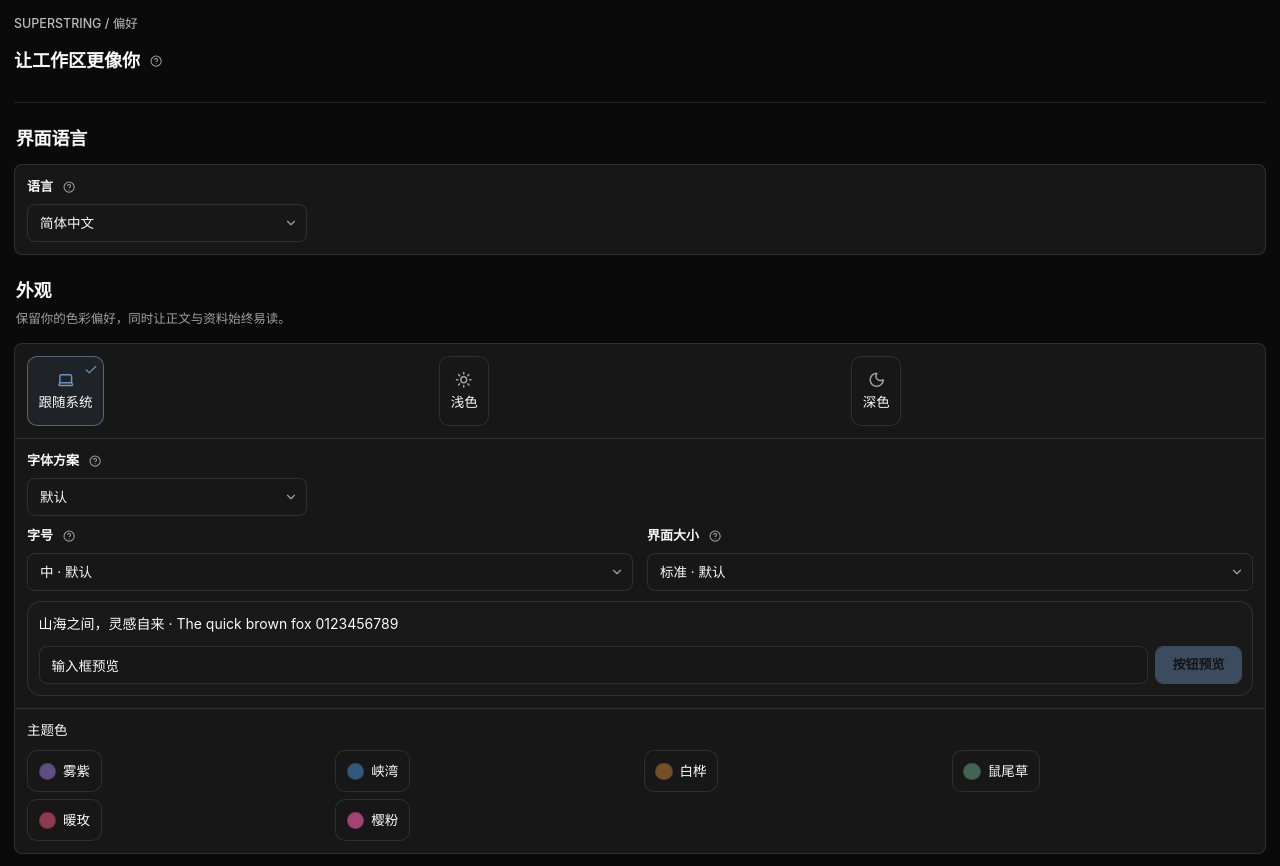
Test: Preferences font control › reports an applied-but-unsaved font choice and keeps the selection live
Select "典雅衬线" in the dropdown labelled "字体方案": [167, 497] box [27, 478, 307, 516]
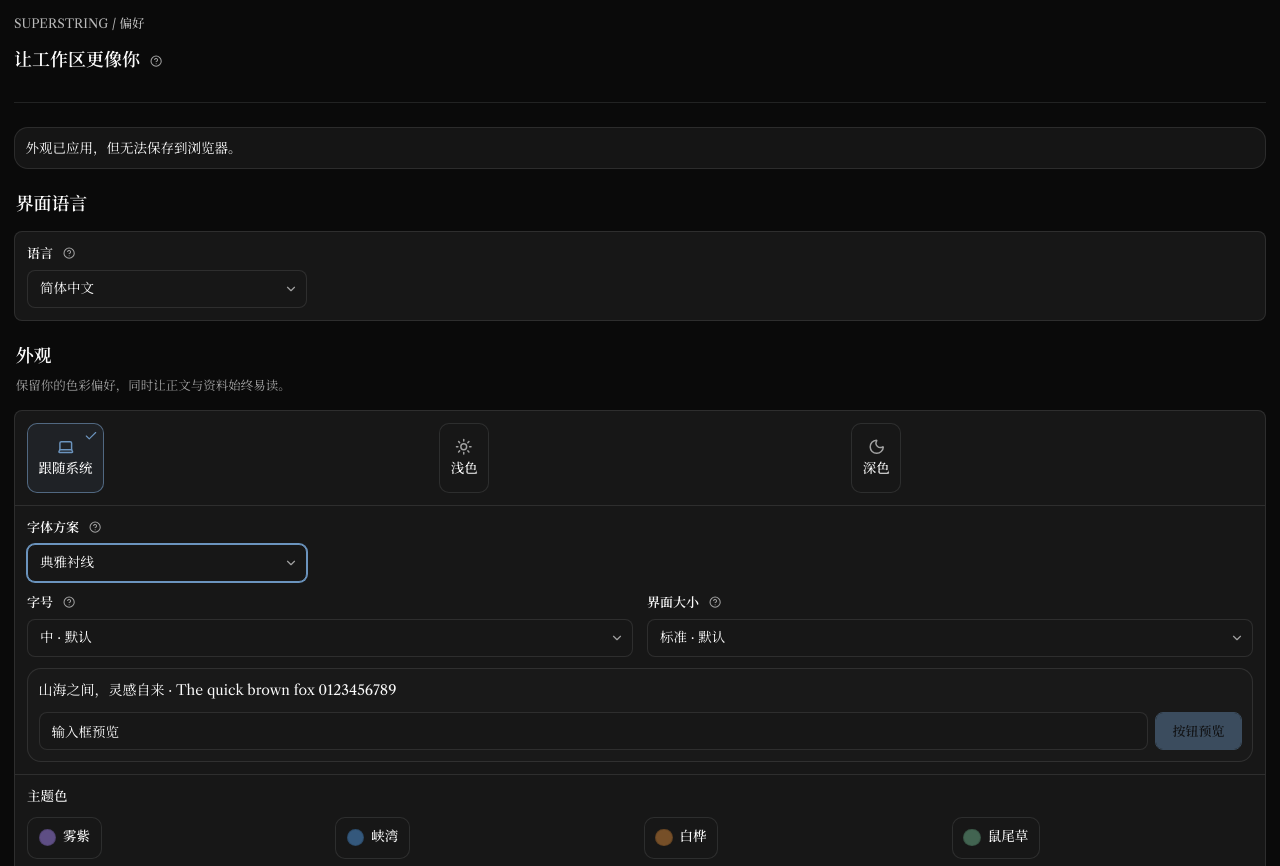
expect the message reads "外观已应用，但无法保存到浏览器。": met, box [26, 140, 242, 156]
